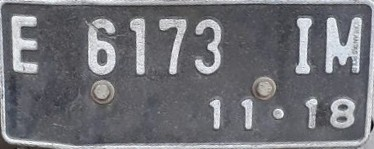plate: (1, 1, 374, 148)
